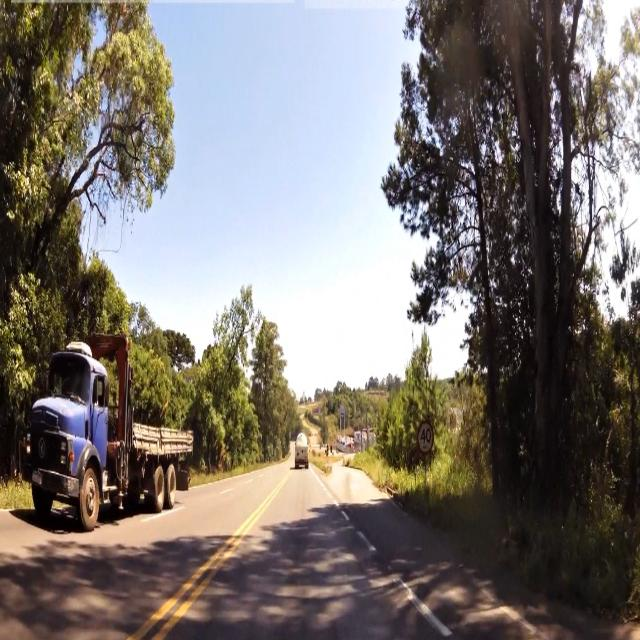R-19: (418, 420, 434, 453)
